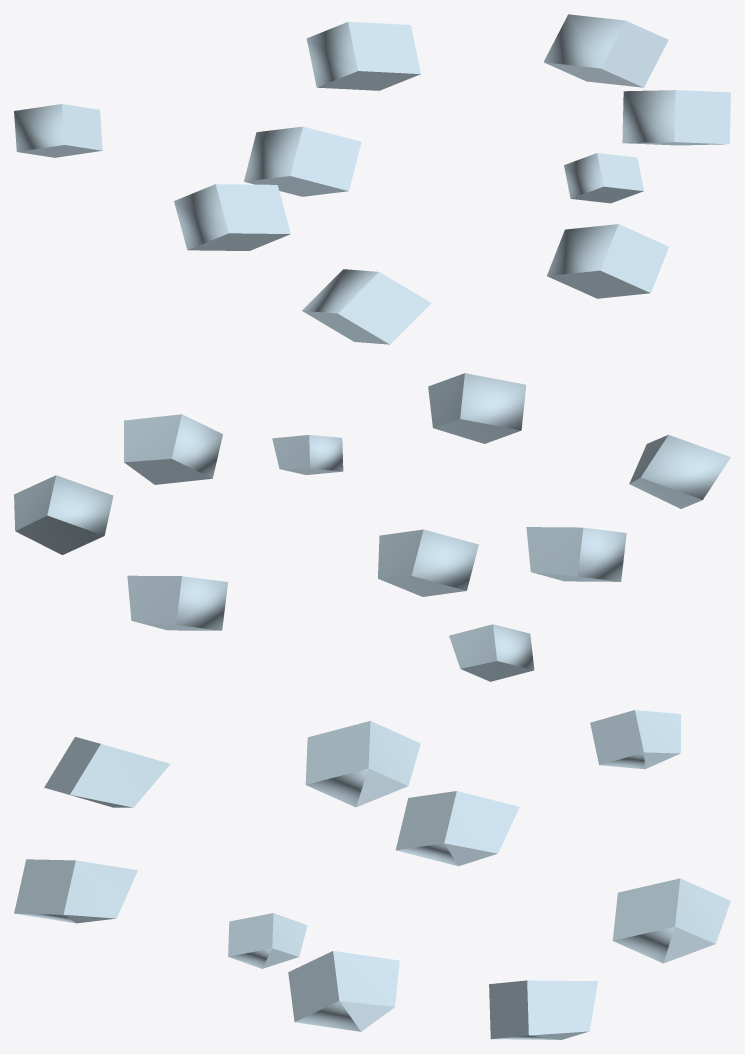
File: snow-rock.glb
3 renders of one model, top to bottom at view 1: azimuth 30°, elevation 25°; view 2: azimuth 150°, elevation 25°; view 3: azimuth 270°, elevation 25°, orthographic. The views are drawn at different scales.
Visible parts, largest first — view 1: Cube 19, Cube 12, Cube 9, Cube 7, Cube 11, Cube 8, Cube 15, Cube 1, Cube 3; view 2: Cube 11, Cube 15, Cube 19, Cube 7, Cube 12, Cube 9, Cube 8, Cube 1, Cube 3; view 3: Cube 9, Cube 12, Cube 15, Cube 7, Cube 19, Cube 11, Cube 8, Cube 1, Cube 3.
Boxes of the visible parts, x1=… form: Cube 19: x1=547, y1=224, x2=668, y2=298; Cube 12: x1=306, y1=21, x2=420, y2=90; Cube 9: x1=174, y1=184, x2=290, y2=250; Cube 7: x1=244, y1=126, x2=361, y2=196; Cube 11: x1=544, y1=14, x2=668, y2=87; Cube 8: x1=302, y1=269, x2=431, y2=344; Cube 15: x1=622, y1=90, x2=730, y2=145; Cube 1: x1=14, y1=104, x2=102, y2=157; Cube 3: x1=564, y1=153, x2=643, y2=203; Cube 11: x1=14, y1=475, x2=113, y2=554; Cube 15: x1=124, y1=414, x2=222, y2=484; Cube 19: x1=428, y1=373, x2=526, y2=443; Cube 7: x1=378, y1=529, x2=478, y2=596; Cube 12: x1=127, y1=575, x2=227, y2=630; Cube 9: x1=526, y1=527, x2=626, y2=581; Cube 8: x1=629, y1=434, x2=730, y2=508; Cube 1: x1=449, y1=624, x2=534, y2=681; Cube 3: x1=272, y1=435, x2=343, y2=474; Cube 9: x1=305, y1=721, x2=420, y2=807; Cube 12: x1=612, y1=878, x2=730, y2=963; Cube 15: x1=288, y1=951, x2=399, y2=1031; Cube 7: x1=396, y1=791, x2=519, y2=866; Cube 19: x1=14, y1=859, x2=137, y2=923; Cube 11: x1=489, y1=980, x2=597, y2=1039; Cube 8: x1=44, y1=737, x2=170, y2=807; Cube 1: x1=590, y1=710, x2=680, y2=769; Cube 3: x1=228, y1=913, x2=307, y2=968.
Size of the model in its own units: 88.49 by 11.46 by 86.14.
